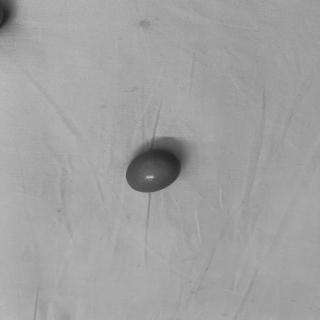Telur: (123, 147, 187, 197)
